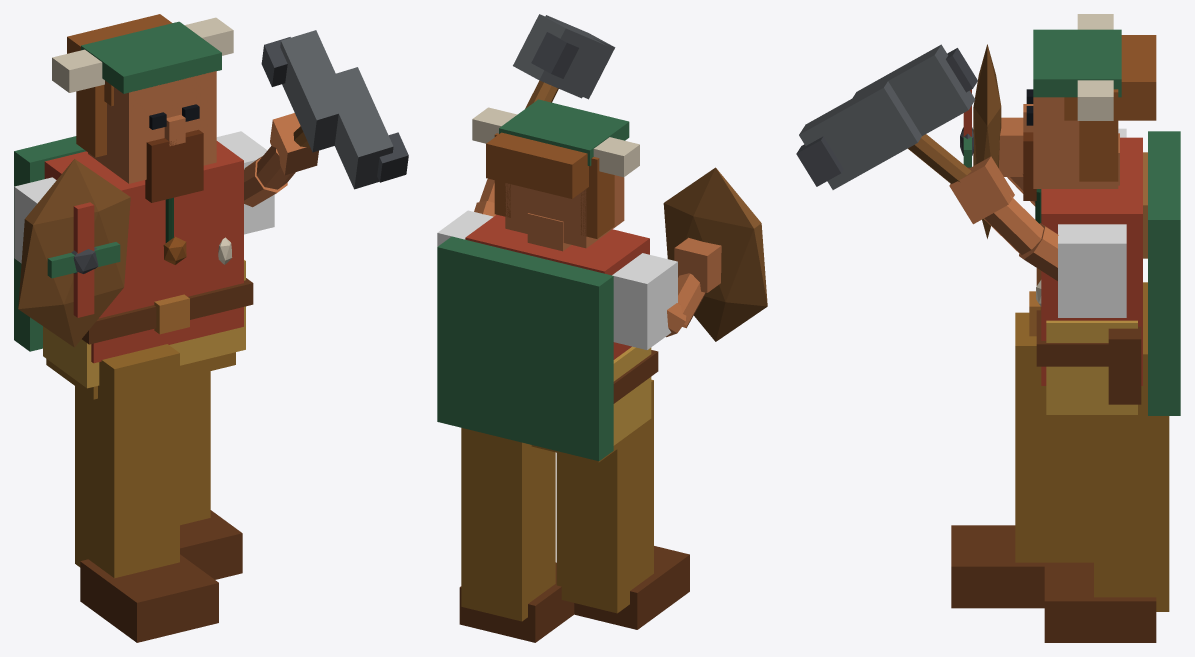
Rendered from teutobod.glb.
The picture shows the model from 3 angles, left to right: view 1: azimuth 30°, elevation 25°; view 2: azimuth 150°, elevation 25°; view 3: azimuth 270°, elevation 25°; orthographic projection. The views are drawn at different scales.
Visible parts, largest first — view 1: 01_Gamba_Sinistra_Avanti, 11_Tunica_Tribale_Busto, 44_Scudo_Ovale_Tribale, 03_Stivale_Sinistro, 21_Viso, 30_Fascia_Capo, 55_Ascia_Lama_Sinistra, 02_Gamba_Destra_Indietro, 56_Ascia_Lama_Destra, 29_Barba_Lunga, 14_Cintura_Larga, 04_Stivale_Destro (+19 smaller); view 2: 19_Mantello_Pelliccia_Dietro, 02_Gamba_Destra_Indietro, 01_Gamba_Sinistra_Avanti, 44_Scudo_Ovale_Tribale, 40_Spalla_Sinistra, 26_Capelli_Cima, 11_Tunica_Tribale_Busto, 30_Fascia_Capo, 03_Stivale_Sinistro, 21_Viso, 55_Ascia_Lama_Sinistra, 04_Stivale_Destro (+12 smaller); view 3: 01_Gamba_Sinistra_Avanti, 02_Gamba_Destra_Indietro, 19_Mantello_Pelliccia_Dietro, 11_Tunica_Tribale_Busto, 04_Stivale_Destro, 03_Stivale_Sinistro, 56_Ascia_Lama_Destra, 50_Spalla_Destra, 30_Fascia_Capo, 13_Tunica_Falda_Destra, 55_Ascia_Lama_Sinistra, 21_Viso (+16 smaller).
Boxes of the visible parts, bbox=[...] form: 01_Gamba_Sinistra_Avanti: bbox=[75, 344, 179, 578]; 11_Tunica_Tribale_Busto: bbox=[44, 141, 243, 363]; 44_Scudo_Ovale_Tribale: bbox=[18, 159, 130, 347]; 03_Stivale_Sinistro: bbox=[80, 554, 218, 642]; 21_Viso: bbox=[88, 71, 216, 183]; 30_Fascia_Capo: bbox=[81, 21, 221, 93]; 55_Ascia_Lama_Sinistra: bbox=[280, 30, 351, 152]; 02_Gamba_Destra_Indietro: bbox=[180, 371, 210, 525]; 56_Ascia_Lama_Destra: bbox=[334, 67, 393, 189]; 29_Barba_Lunga: bbox=[145, 129, 203, 202]; 14_Cintura_Larga: bbox=[82, 278, 253, 344]; 04_Stivale_Destro: bbox=[180, 510, 242, 579]; 19_Mantello_Pelliccia_Dietro: bbox=[437, 236, 613, 461]; 02_Gamba_Destra_Indietro: bbox=[461, 428, 555, 621]; 01_Gamba_Sinistra_Avanti: bbox=[556, 379, 653, 613]; 44_Scudo_Ovale_Tribale: bbox=[663, 167, 767, 341]; 40_Spalla_Sinistra: bbox=[612, 253, 677, 349]; 26_Capelli_Cima: bbox=[486, 132, 588, 198]; 11_Tunica_Tribale_Busto: bbox=[465, 214, 649, 359]; 30_Fascia_Capo: bbox=[499, 99, 629, 166]; 03_Stivale_Sinistro: bbox=[574, 546, 689, 629]; 21_Viso: bbox=[505, 175, 624, 248]; 55_Ascia_Lama_Sinistra: bbox=[513, 14, 608, 98]; 04_Stivale_Destro: bbox=[459, 562, 574, 642]; 01_Gamba_Sinistra_Avanti: bbox=[1015, 312, 1093, 562]; 02_Gamba_Destra_Indietro: bbox=[1094, 416, 1169, 611]; 19_Mantello_Pelliccia_Dietro: bbox=[1148, 131, 1180, 415]; 11_Tunica_Tribale_Busto: bbox=[1041, 137, 1142, 385]; 04_Stivale_Destro: bbox=[1044, 562, 1156, 642]; 03_Stivale_Sinistro: bbox=[951, 525, 1044, 608]; 56_Ascia_Lama_Destra: bbox=[799, 81, 921, 189]; 50_Spalla_Destra: bbox=[1058, 224, 1126, 317]; 30_Fascia_Capo: bbox=[1033, 29, 1121, 97]; 13_Tunica_Falda_Destra: bbox=[1046, 320, 1137, 414]; 55_Ascia_Lama_Sinistra: bbox=[850, 44, 975, 135]; 21_Viso: bbox=[1033, 97, 1118, 188].
Bounding box in the file's own units: 2.25 × 4.03 × 2.35.
